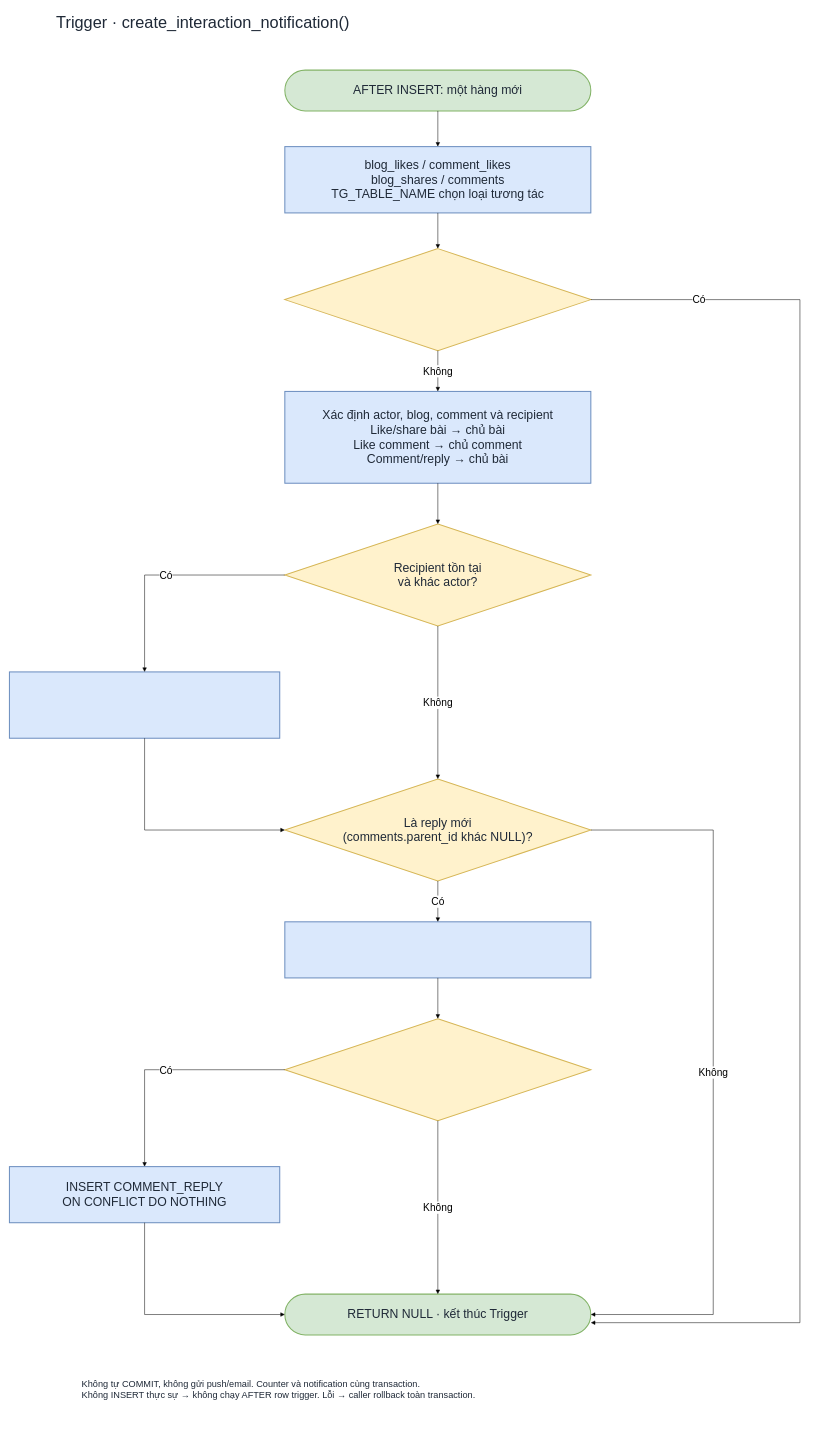
Some shapes in this 813 by 1440 pixel diagram are drawn without their labels. Each missing label, with the box of its shape:
INSERT notifications ON CONFLICT DO NOTHING Giữ lịch sử/read_at nếu đã có: (9, 671, 280, 738)
Là comments và đã xóa hoặc author NULL?: (284, 248, 591, 351)
Tra tác giả comment cha trong cùng blog: (284, 921, 591, 978)
Tác giả cha tồn tại, khác actor và chủ bài?: (284, 1018, 591, 1121)
